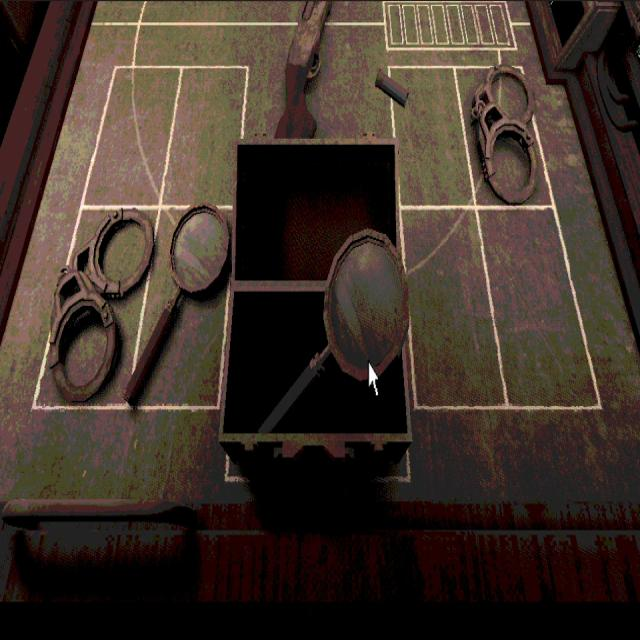ally: (1, 16, 639, 528)
emptyspace: (481, 209, 603, 411), (404, 206, 509, 411), (82, 61, 185, 209), (159, 68, 245, 205), (392, 68, 478, 204)
handcuff: (49, 208, 153, 402), (470, 66, 538, 204)
inventorybox: (222, 135, 407, 445)
lens: (138, 205, 231, 406)
